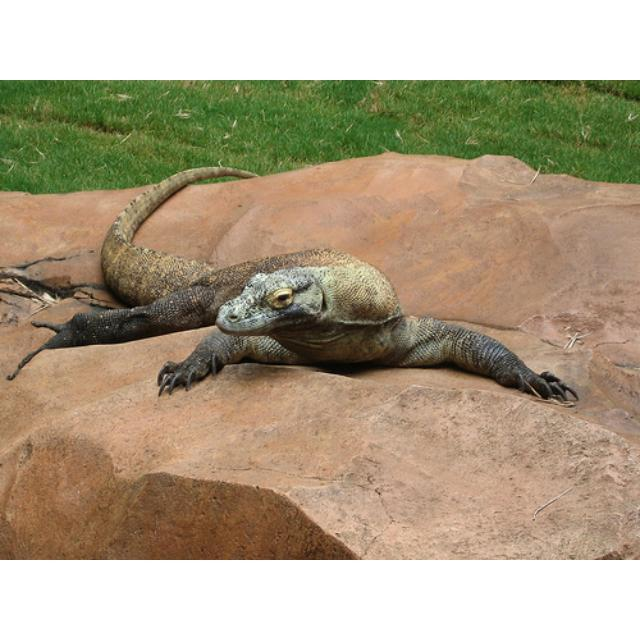KomodoDragon: (13, 161, 576, 400)
